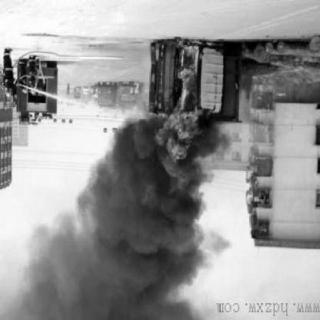Fire: (143, 33, 211, 183)
Smoke: (100, 180, 192, 318), (113, 128, 140, 180)
